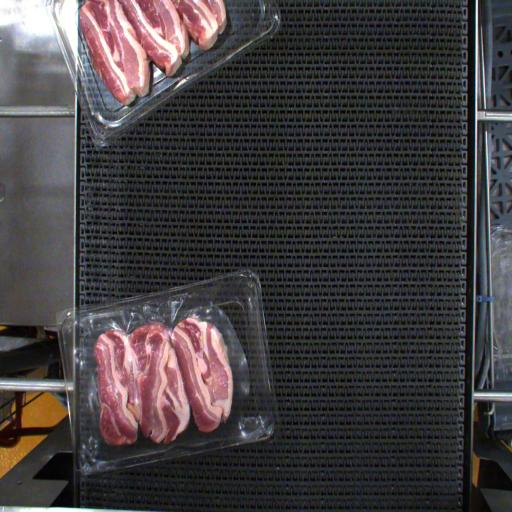unsealed: (64, 290, 270, 447)
